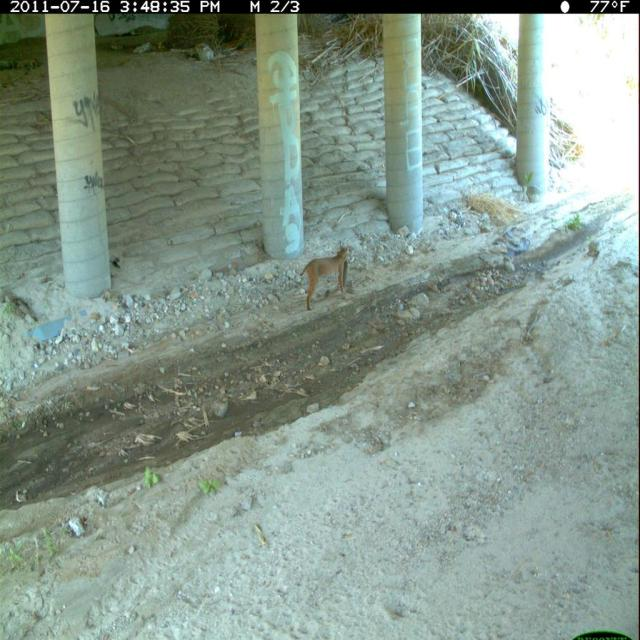bobcat: (298, 240, 358, 315)
rabbit: (342, 256, 351, 291)
